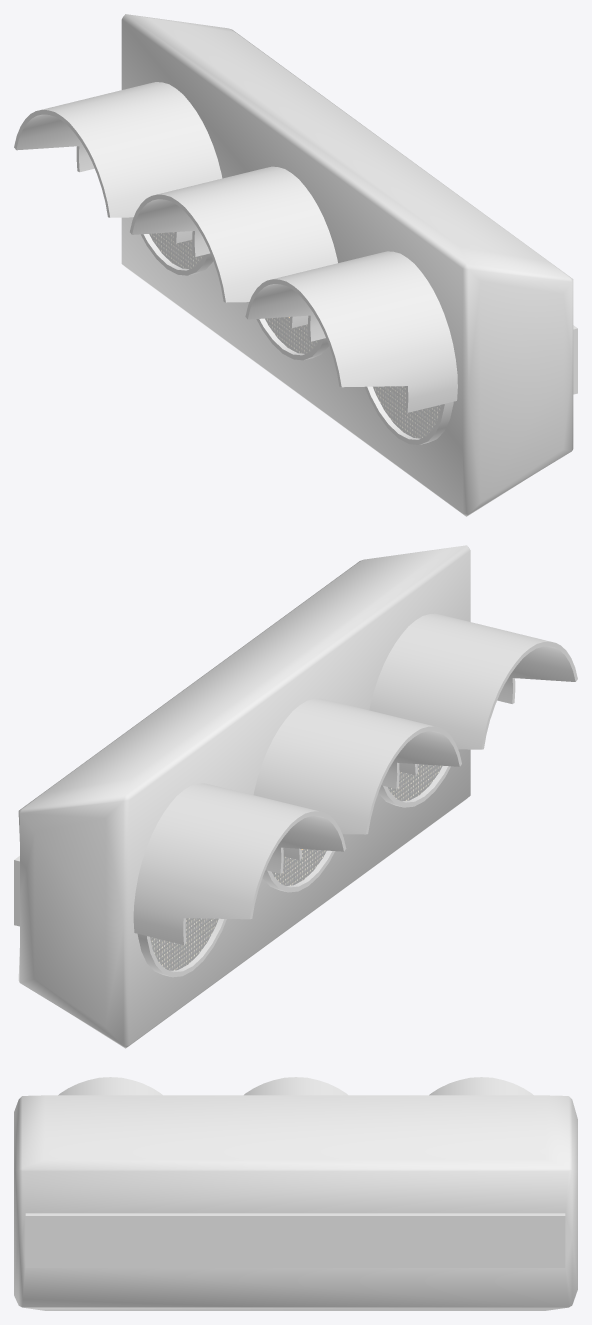
File: 横向直行灯_YellowLight.glb
The picture shows the model from 3 angles, top to bottom: view 1: azimuth 30°, elevation 25°; view 2: azimuth 150°, elevation 25°; view 3: azimuth 270°, elevation 25°; orthographic projection. The views are drawn at different scales.
Parts seen in each view (by area): view 1: 横向直行灯_YellowLight; view 2: 横向直行灯_YellowLight; view 3: 横向直行灯_YellowLight.
Boxes of the visible parts, bbox=[...] form: 横向直行灯_YellowLight: bbox=[14, 14, 577, 516]; 横向直行灯_YellowLight: bbox=[14, 545, 577, 1048]; 横向直行灯_YellowLight: bbox=[14, 1077, 577, 1310].
Size of the model in its own units: 0.6 by 0.65 by 1.58.
3 materials, 2 textured.
